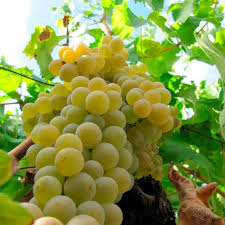Green grapes: (22, 78, 126, 225)
